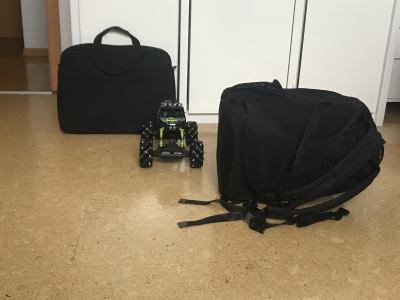remote control car: (136, 96, 206, 170)
